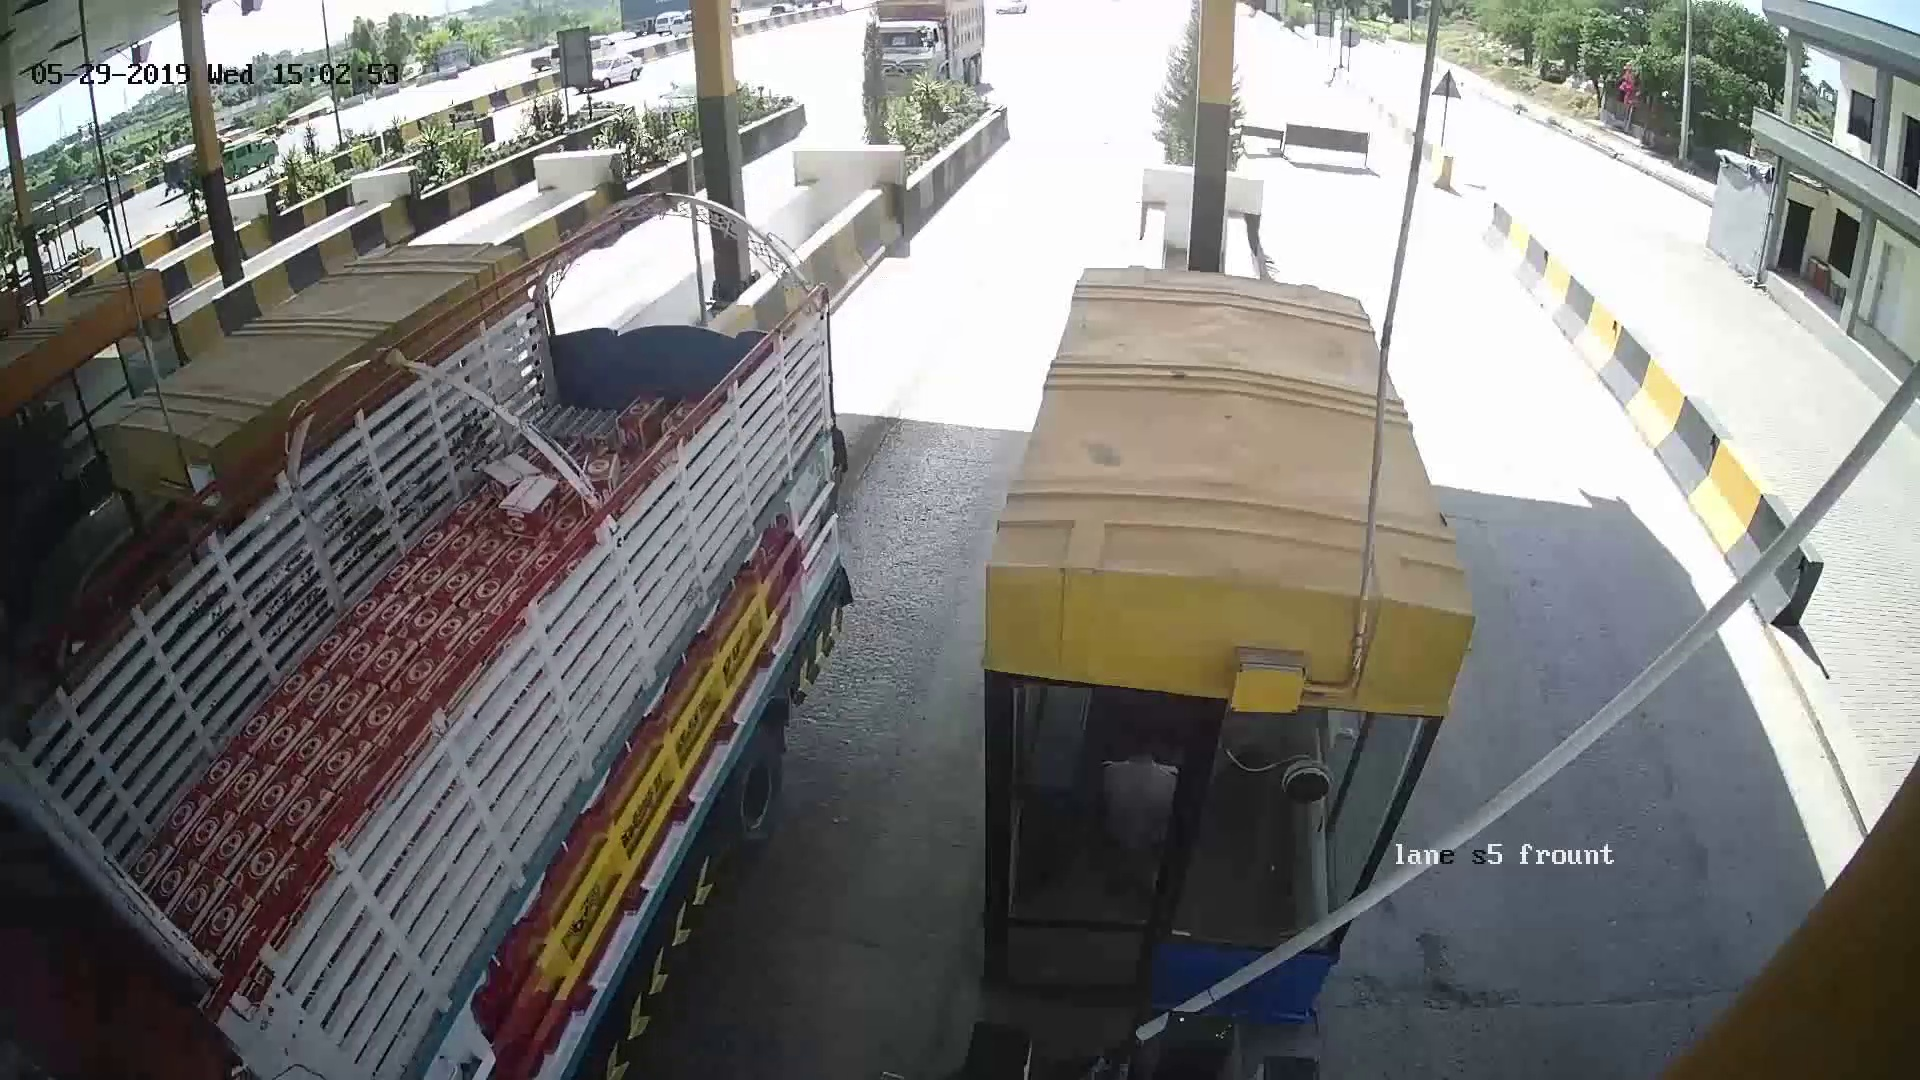truck: (138, 422, 808, 1019)
